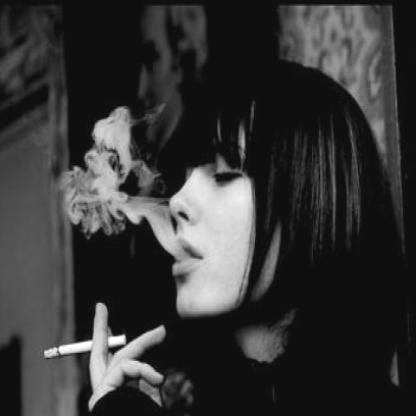cigarette: (41, 330, 128, 361)
person: (158, 54, 415, 415)
smoke: (57, 115, 154, 233)
